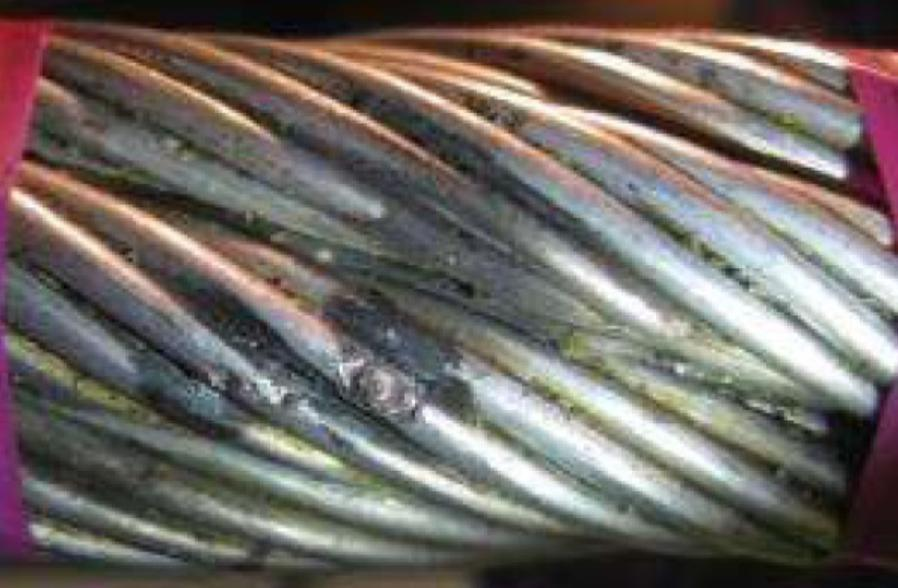thunderbolt: (142, 261, 483, 450)
